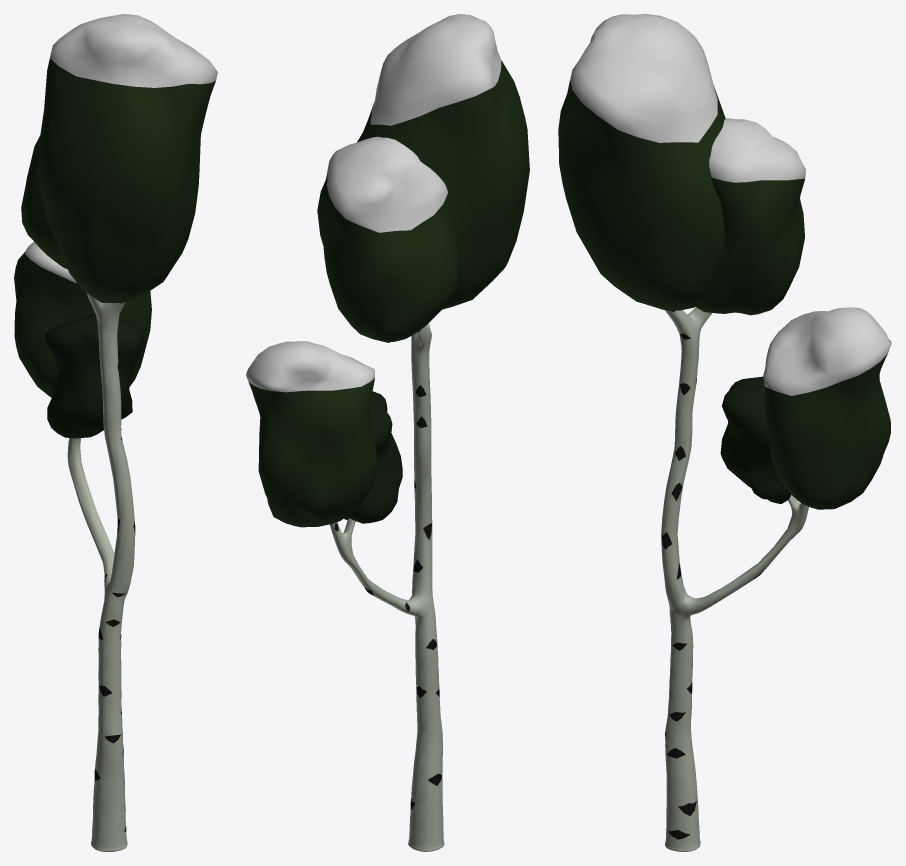
Rendered from BirchTree_Snow_5.fbx.
3 views of the same model, side by side, from view 1: azimuth 30°, elevation 25°; view 2: azimuth 150°, elevation 25°; view 3: azimuth 270°, elevation 25° (orthographic). The views are drawn at different scales.
Visible parts, largest first — view 1: BirchTree_Snow_5; view 2: BirchTree_Snow_5; view 3: BirchTree_Snow_5.
Part boxes in pixels (x1=…): BirchTree_Snow_5: x1=14, y1=14, x2=217, y2=851; BirchTree_Snow_5: x1=246, y1=14, x2=529, y2=851; BirchTree_Snow_5: x1=558, y1=14, x2=891, y2=851.
Bounding box in the file's own units: 196 × 327 × 887.
